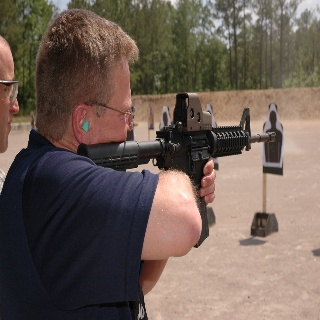rifle: (76, 91, 276, 252)
